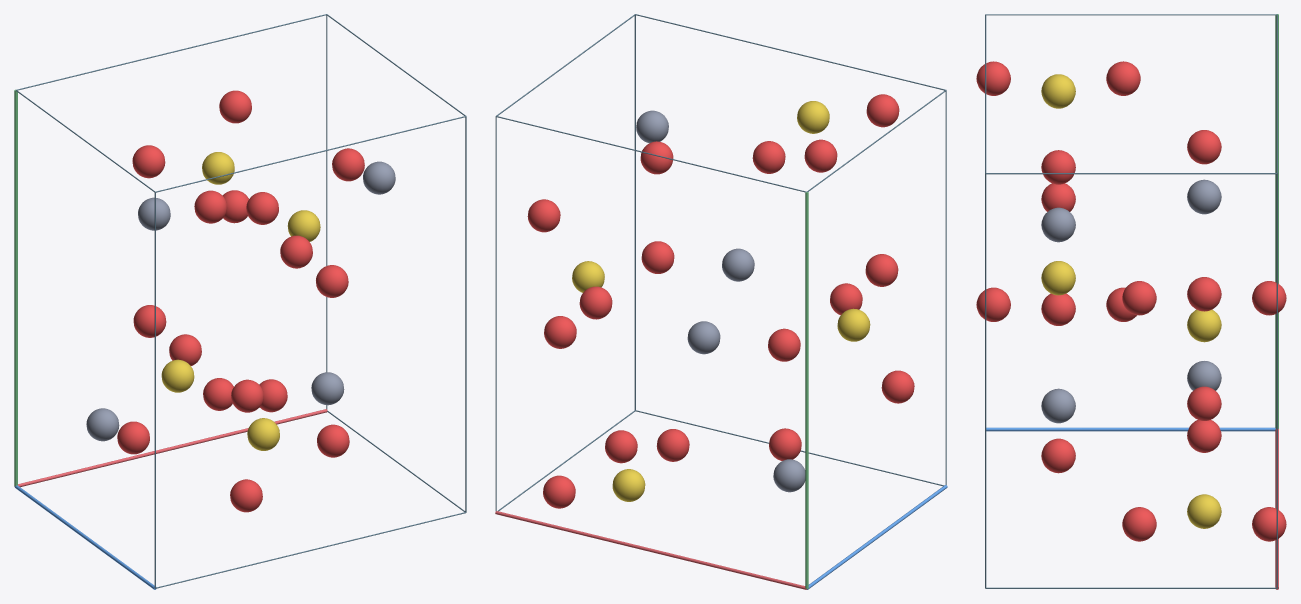
The model's file is chat-anglesite.glb.
3 views of the same model, side by side, from view 1: azimuth 30°, elevation 25°; view 2: azimuth 150°, elevation 25°; view 3: azimuth 270°, elevation 25° (orthographic). The views are drawn at different scales.
Parts seen in each view (by area): view 1: Ô mạng và các trục a, b, c, O3 · O · 1 (×8), Pb · Pb · 1 (×4), O1 · O · 1 (×4), O2 · O · 1 (×4), S · S · 1 (×4); view 2: Ô mạng và các trục a, b, c, O3 · O · 1 (×8), O2 · O · 1 (×4), Pb · Pb · 1 (×4), O1 · O · 1 (×4), S · S · 1 (×4); view 3: O3 · O · 1 (×8), Ô mạng và các trục a, b, c, S · S · 1 (×4), O2 · O · 1 (×4), Pb · Pb · 1 (×4), O1 · O · 1 (×4).
Boxes of the visible parts, <box> form: Ô mạng và các trục a, b, c: <box>14,14,466,589</box>; O3 · O · 1 (×8): <box>132,145,349,457</box>; Pb · Pb · 1 (×4): <box>86,161,395,441</box>; O1 · O · 1 (×4): <box>133,90,348,512</box>; O2 · O · 1 (×4): <box>117,148,364,454</box>; S · S · 1 (×4): <box>161,152,320,450</box>; Ô mạng và các trục a, b, c: <box>495,14,947,589</box>; O3 · O · 1 (×8): <box>543,94,899,508</box>; O2 · O · 1 (×4): <box>527,141,914,461</box>; Pb · Pb · 1 (×4): <box>636,110,805,492</box>; O1 · O · 1 (×4): <box>544,141,898,460</box>; S · S · 1 (×4): <box>572,101,870,501</box>; O3 · O · 1 (×8): <box>976,61,1286,541</box>; Ô mạng và các trục a, b, c: <box>985,14,1278,589</box>; S · S · 1 (×4): <box>1041,74,1221,528</box>; O2 · O · 1 (×4): <box>1041,150,1221,452</box>; Pb · Pb · 1 (×4): <box>1041,179,1221,423</box>; O1 · O · 1 (×4): <box>1041,130,1221,473</box>.
Size of the model in its own units: 7.02 by 8.52 by 5.74.
